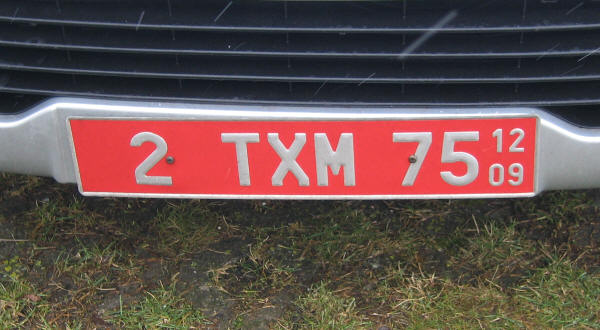license_plate: (67, 117, 540, 198)
